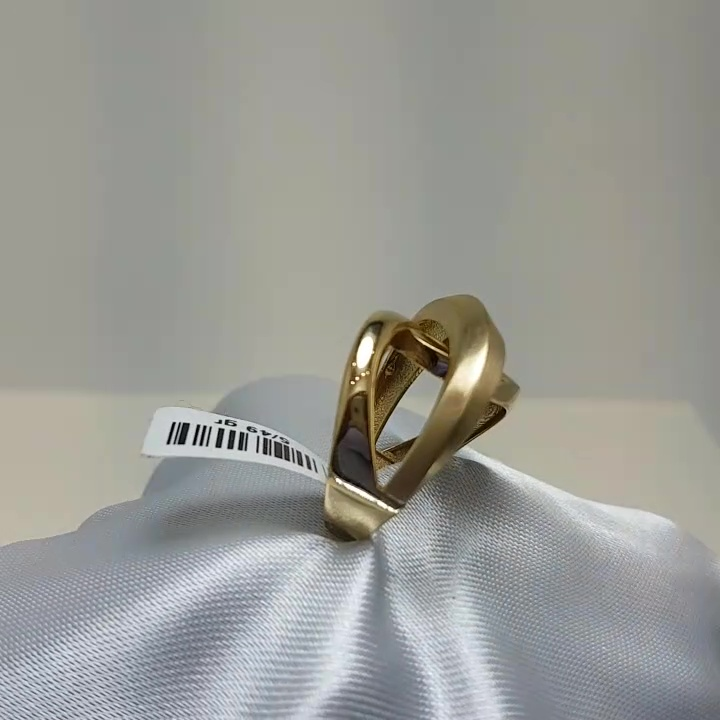Ring 3: (312, 275, 540, 562)
